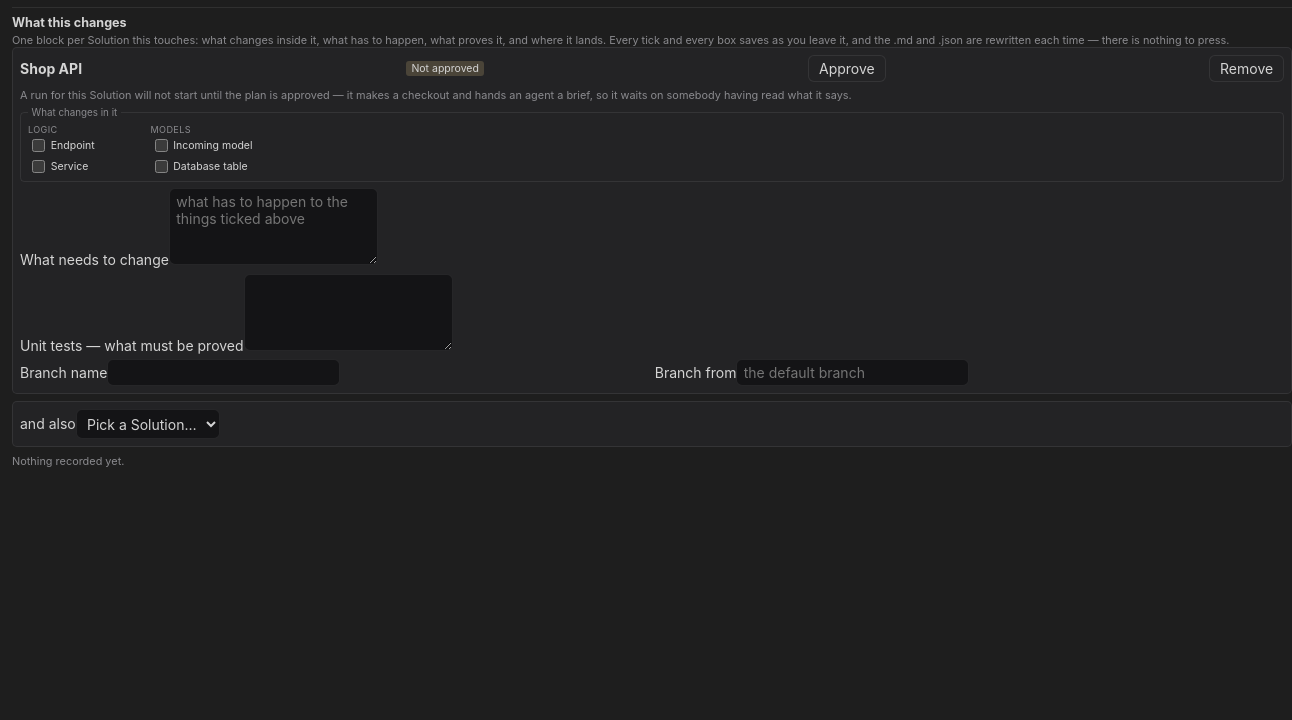
Scenario: WorkItemChanges — the developer's half › points at the Develop rules when it has nothing to suggest
Click the checkbox named "Endpoint changes in Shop API" at [38, 146], box [32,139,45,152]
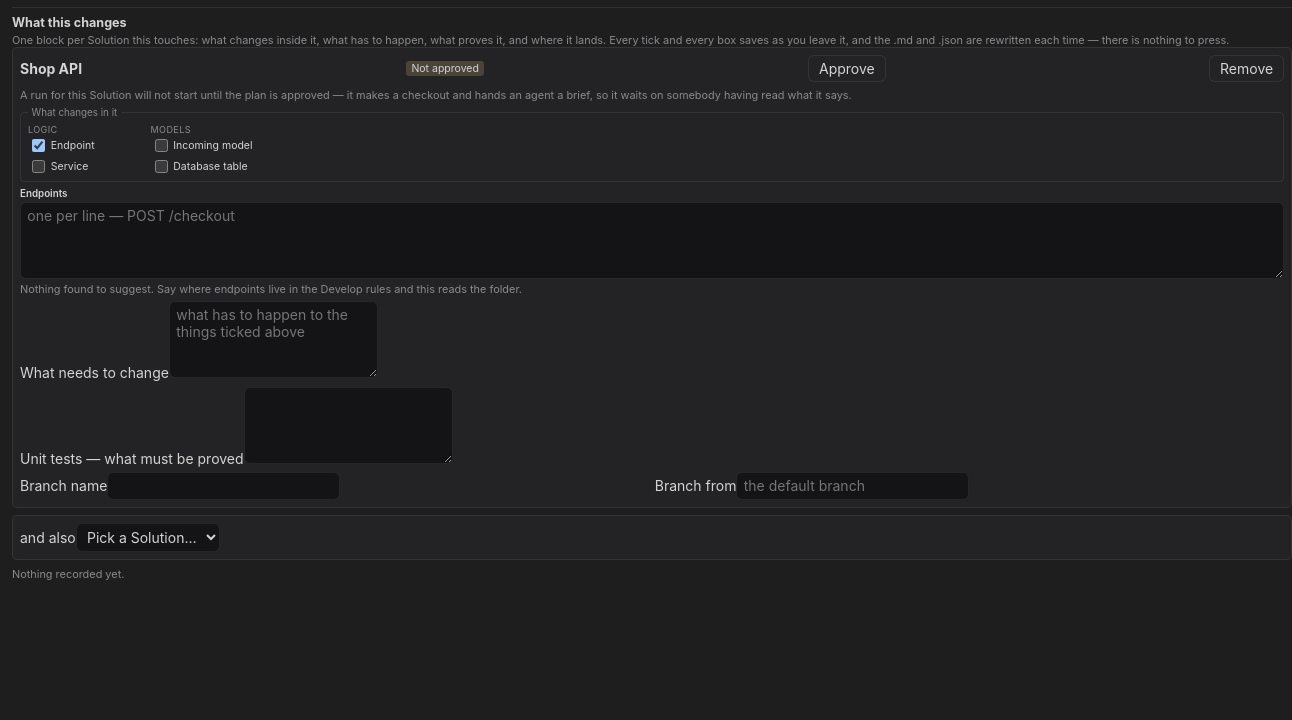
Expected: the text "Say where endpoints live in the Develop rules" is shown, [20,282,522,296]
